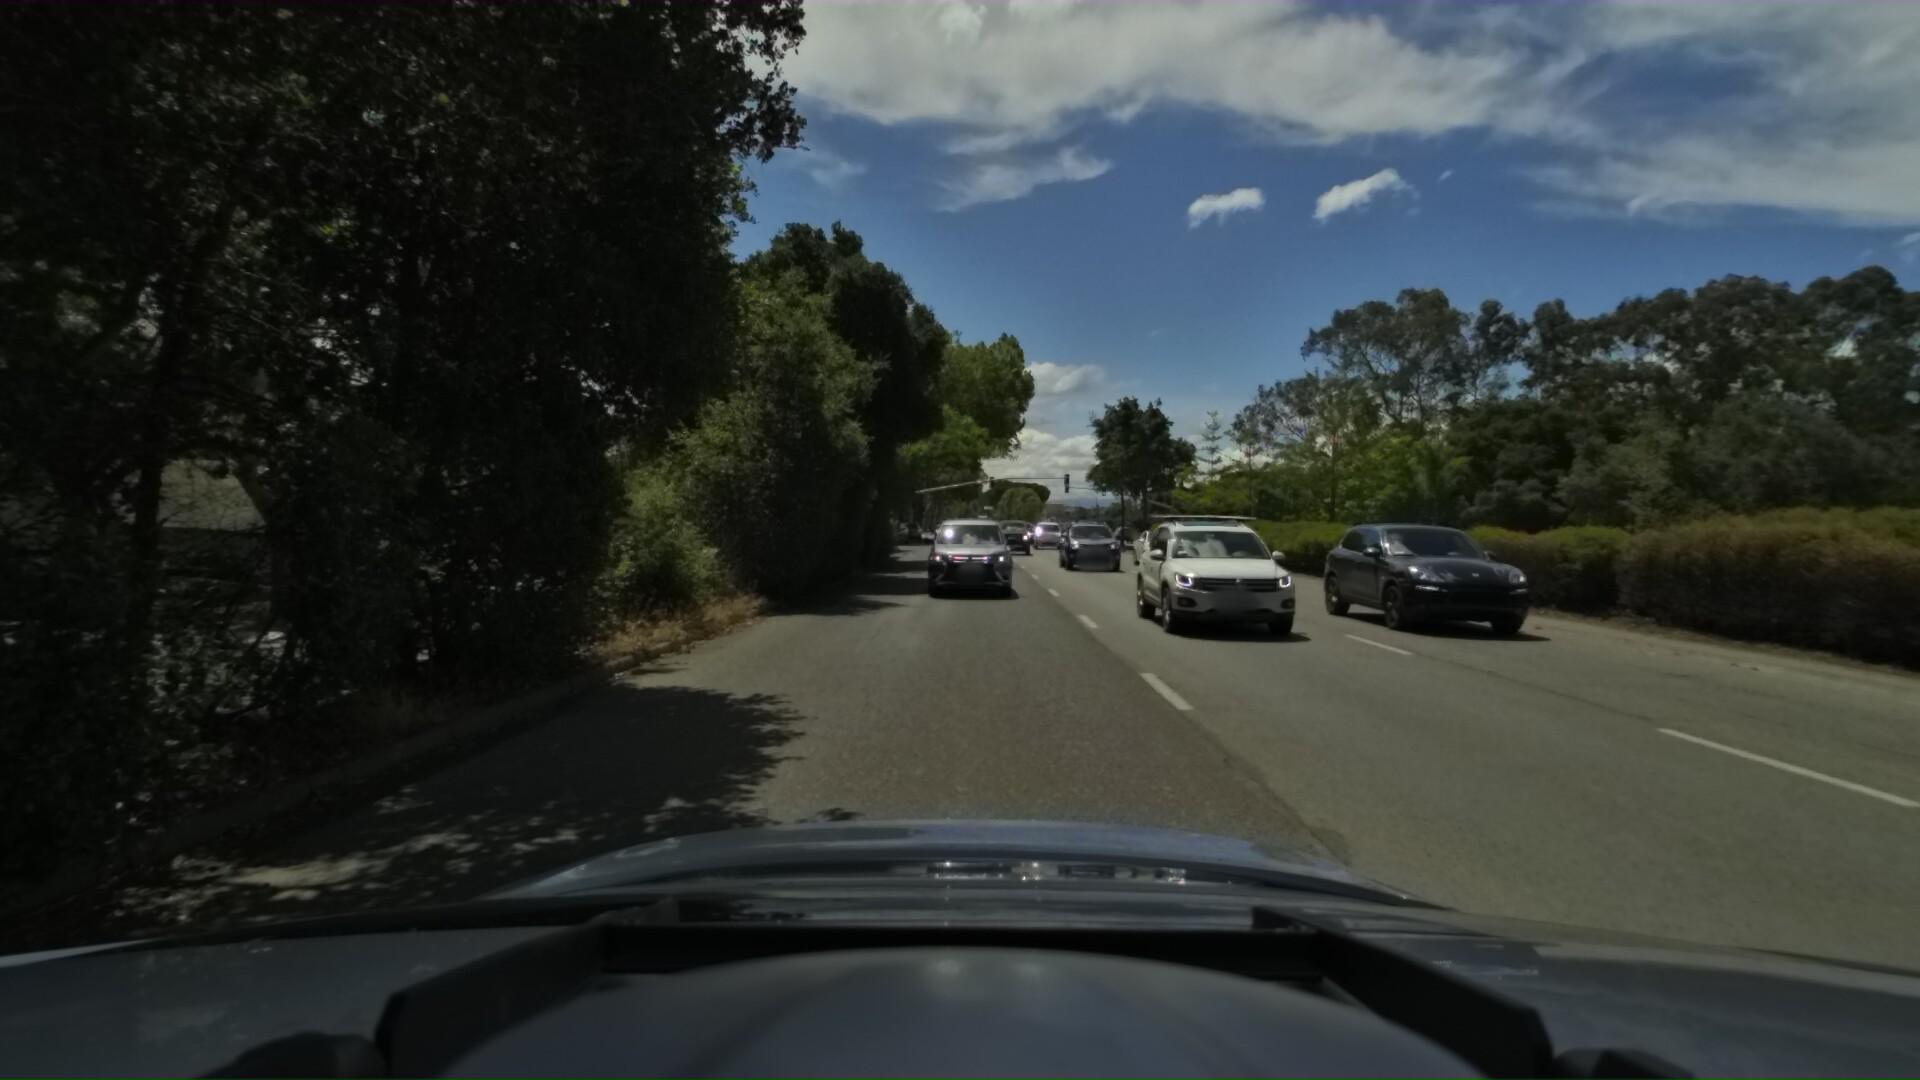car: (1286, 517, 1501, 636), (1118, 508, 1284, 638), (920, 516, 1017, 605), (1051, 517, 1116, 572), (1120, 524, 1189, 568), (996, 516, 1039, 555), (1031, 518, 1062, 549), (1025, 518, 1048, 543), (895, 520, 922, 541)
